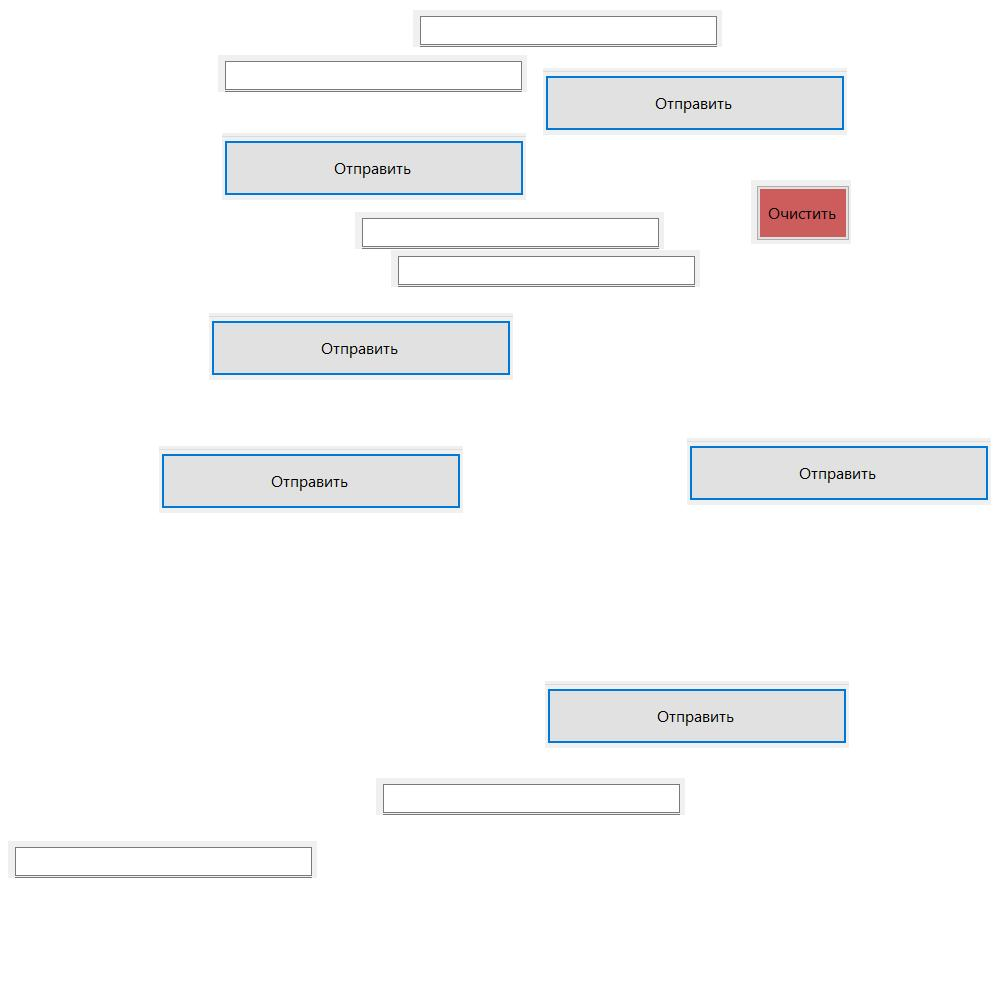Button: (222, 133, 526, 200), (209, 313, 513, 380), (543, 68, 847, 135), (545, 681, 849, 748), (687, 438, 991, 505), (159, 446, 463, 513), (751, 180, 851, 244)
EditText-: (8, 841, 317, 878), (413, 10, 722, 47), (376, 778, 685, 815), (391, 250, 700, 287), (218, 55, 527, 92), (355, 212, 664, 249)
